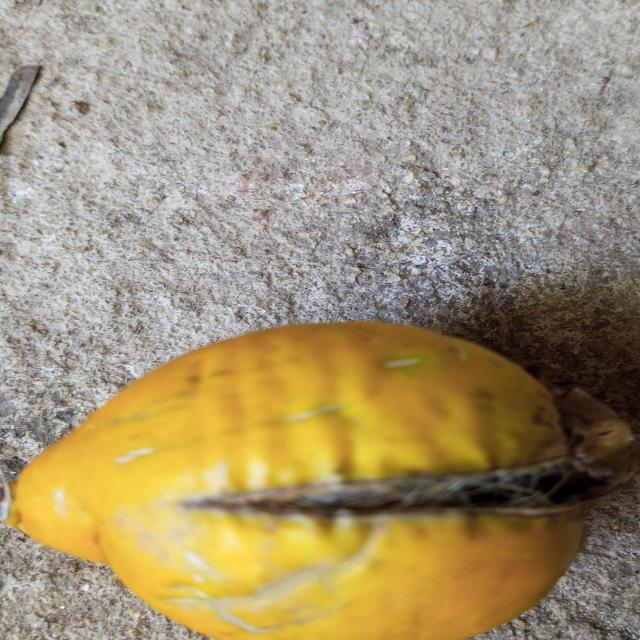damaged: (7, 322, 634, 640)
